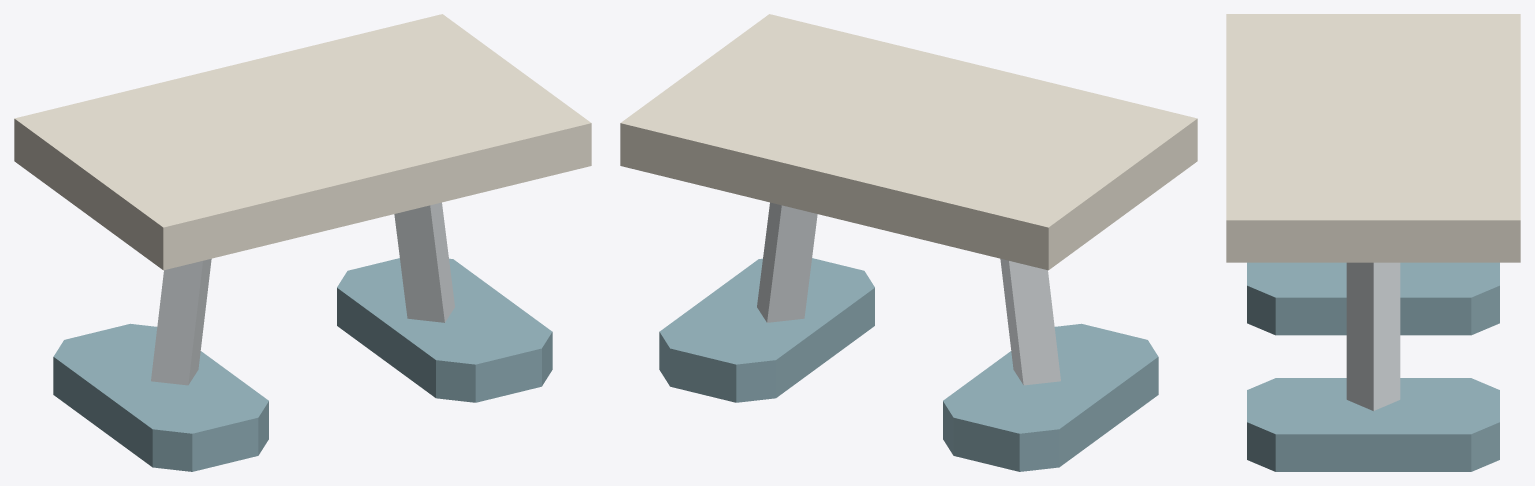
Rendered from prop_table_v4_ShadowProxy.glb.
3 renders of one model, left to right at view 1: azimuth 30°, elevation 25°; view 2: azimuth 150°, elevation 25°; view 3: azimuth 270°, elevation 25°, orthographic.
Visible parts, largest first — view 1: prop_table_v4_ShadowProxy / Primary assembly; view 2: prop_table_v4_ShadowProxy / Primary assembly; view 3: prop_table_v4_ShadowProxy / Primary assembly.
Part boxes in pixels (x1,y1,x2,y2): prop_table_v4_ShadowProxy / Primary assembly: (14, 14, 591, 471); prop_table_v4_ShadowProxy / Primary assembly: (620, 14, 1197, 471); prop_table_v4_ShadowProxy / Primary assembly: (1226, 14, 1520, 471).
Size of the model in its own units: 1.36 by 0.794 by 0.82.
